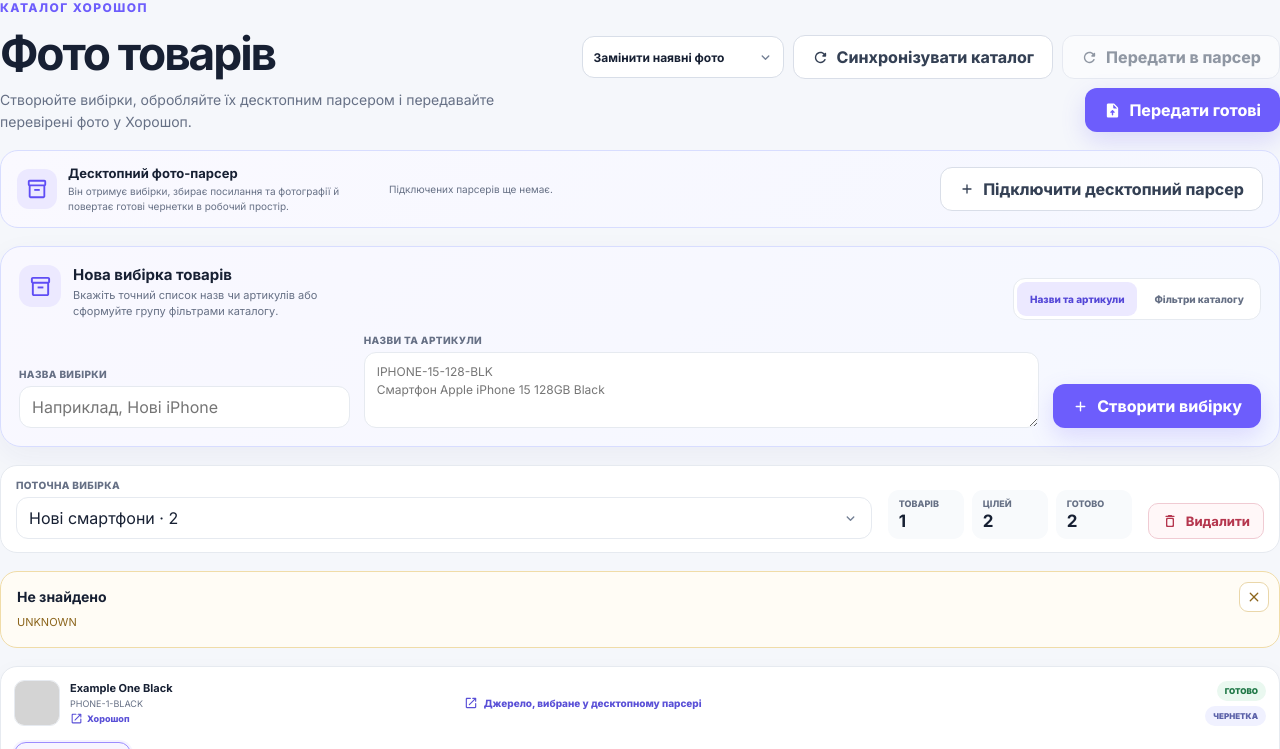
Test: HoroshopPhotoParserPage › shows partial publication failures and refreshes the selection and its summary
Click the button "Передати готові" at (1183, 110), box [1085,88,1279,132]
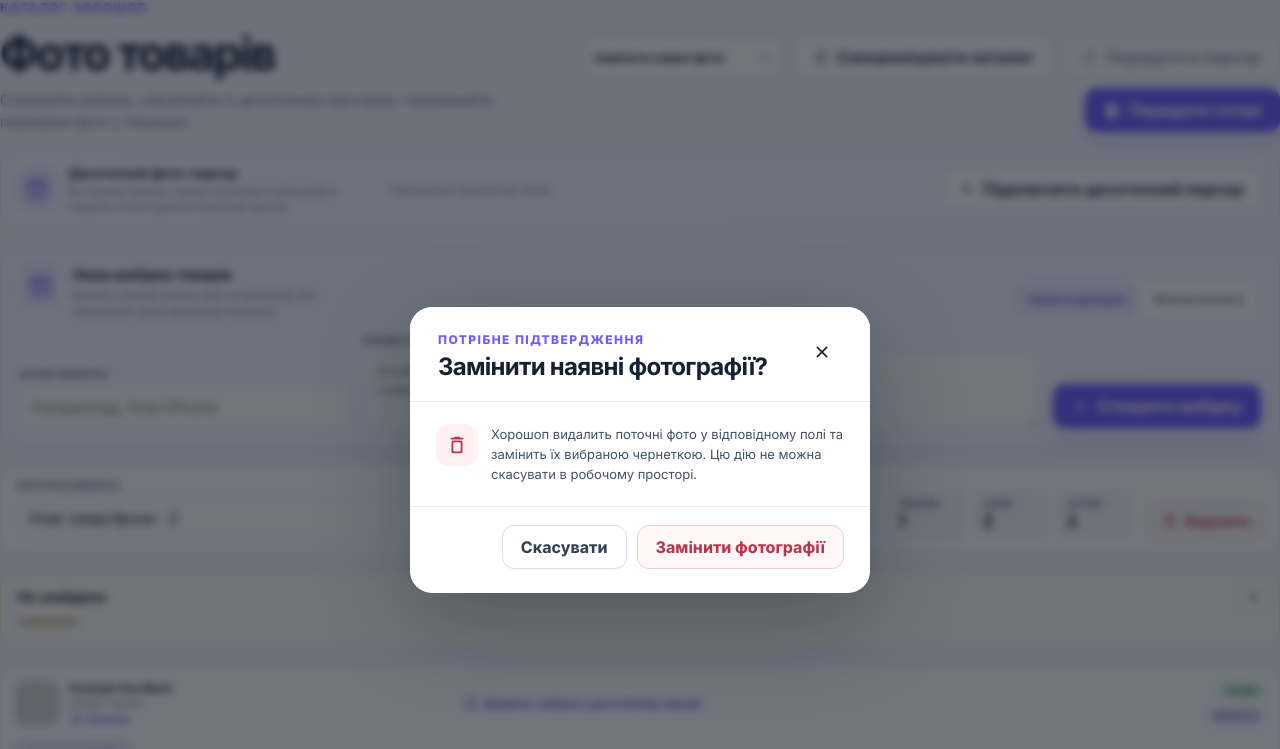
Click the button "Замінити фотографії" at (740, 547), box [636,525,844,569]
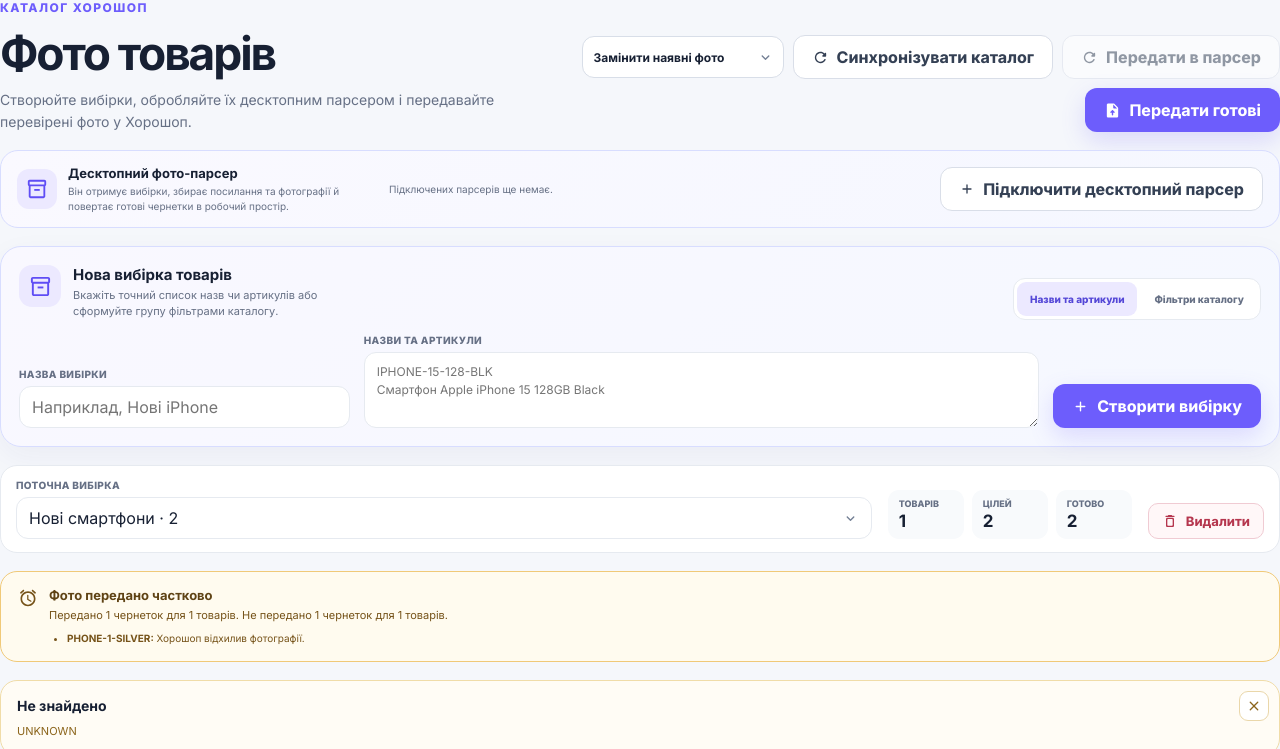
Expected: the 1st message shows "Фото передано частково", [49,587,213,603]
Expected: the 1st message shows "Передано 1 чернеток для 1 товарів", [0,571,1279,662]
Expected: the 1st message shows "PHONE-1-SILVER: Хорошоп відхилив фотографії.", [0,571,1279,662]
